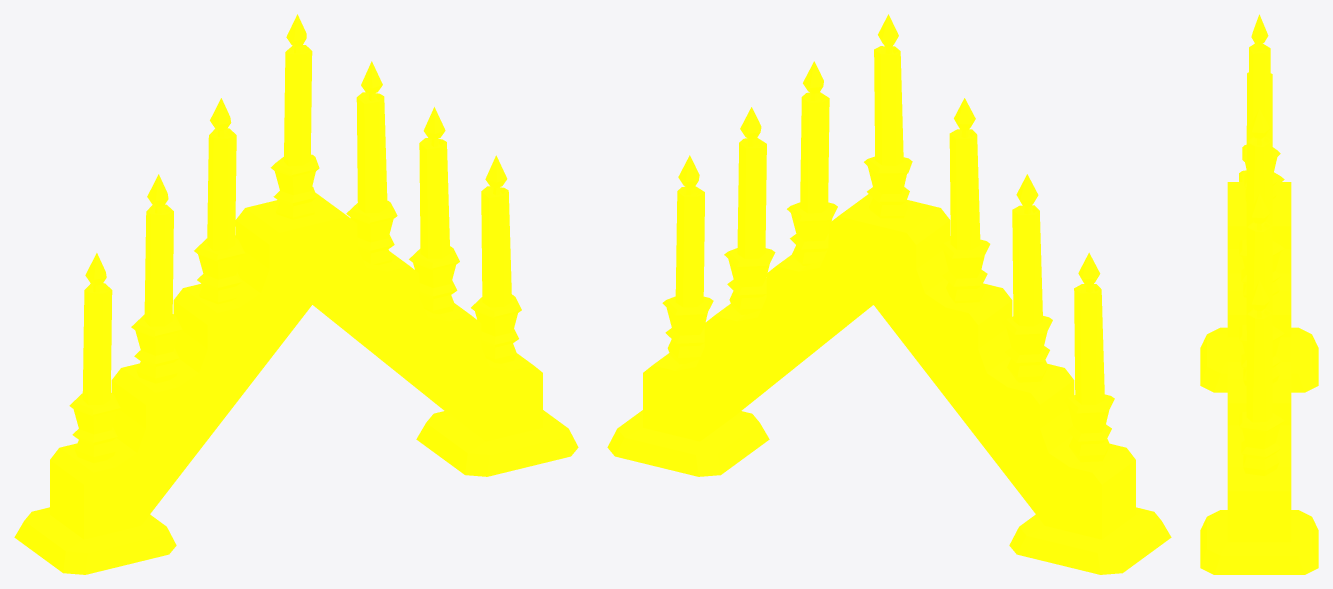
The model's file is candle-holder-arch.glb.
3 views of the same model, side by side, from view 1: azimuth 30°, elevation 25°; view 2: azimuth 150°, elevation 25°; view 3: azimuth 270°, elevation 25° (orthographic). The views are drawn at different scales.
Parts seen in each view (by area): view 1: candle_holder_arch; view 2: candle_holder_arch; view 3: candle_holder_arch.
Part boxes in pixels (box(x1,y1,x2,y2)): candle_holder_arch: box(14, 14, 578, 574); candle_holder_arch: box(607, 14, 1171, 574); candle_holder_arch: box(1200, 14, 1318, 574).
Bounding box in the file's own units: 0.4509 × 0.3998 × 0.0963.
2 materials, 2 textured.
